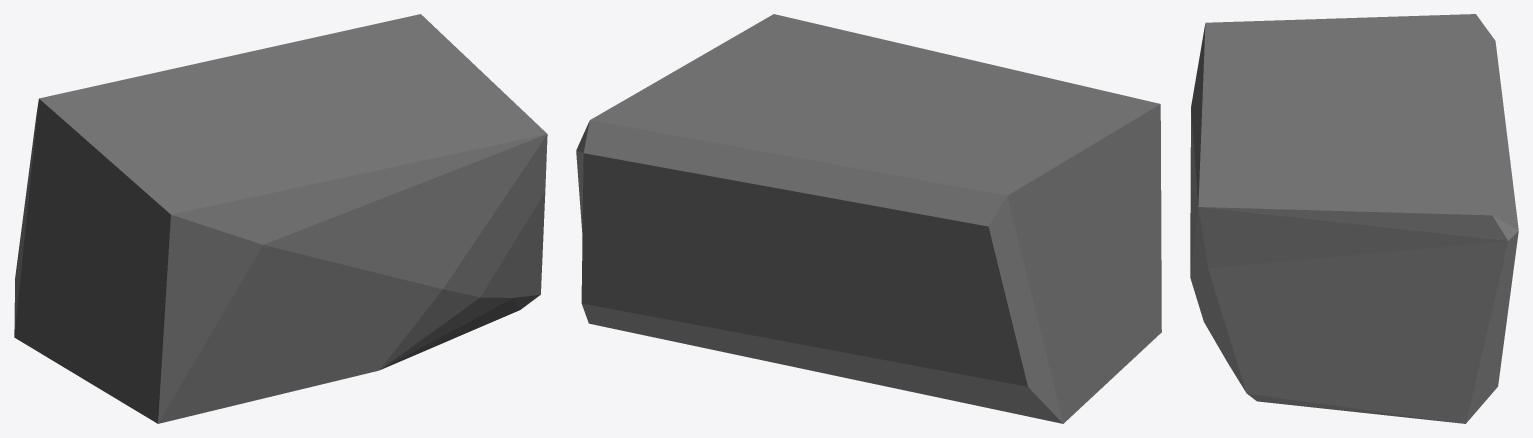
The model's file is EM_rock_fenceBrick_01.fbx.
The picture shows the model from 3 angles, left to right: view 1: azimuth 30°, elevation 25°; view 2: azimuth 150°, elevation 25°; view 3: azimuth 270°, elevation 25°; orthographic projection. The views are drawn at different scales.
Parts seen in each view (by area): view 1: EM_rock_fenceBrick_01_LOD0; view 2: EM_rock_fenceBrick_01_LOD0; view 3: EM_rock_fenceBrick_01_LOD0.
Part boxes in pixels (x1,y1,x2,y2): EM_rock_fenceBrick_01_LOD0: (14,14,547,423); EM_rock_fenceBrick_01_LOD0: (576,14,1161,423); EM_rock_fenceBrick_01_LOD0: (1190,14,1518,423).
Size of what is drawn, in the model's own units: 0.726 by 0.3512 by 0.4795.
